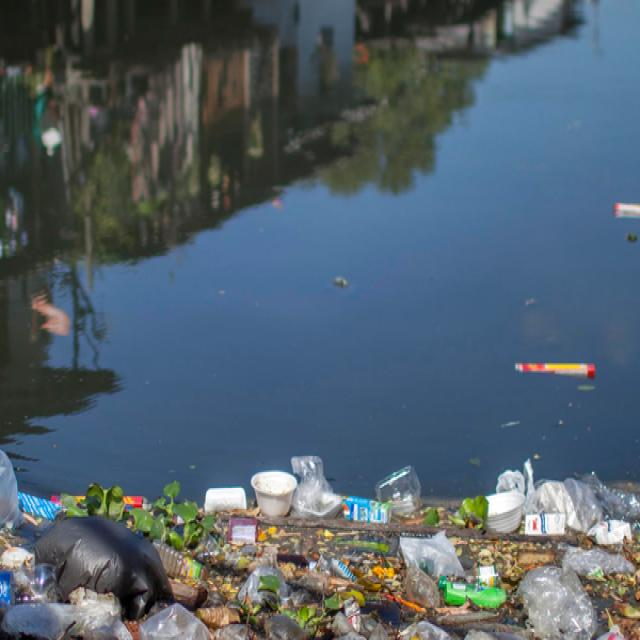-: (0, 453, 640, 640), (419, 145, 640, 468)
